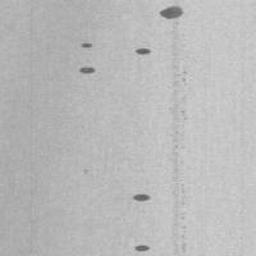Oil spot: (157, 4, 184, 20), (134, 46, 152, 56), (78, 67, 97, 76), (132, 193, 151, 202), (134, 244, 150, 252), (81, 42, 93, 50)
